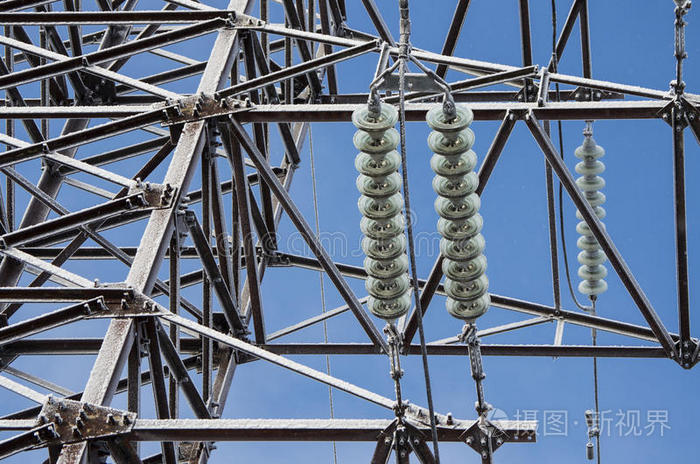insulator: (426, 103, 494, 318), (351, 102, 409, 315), (575, 139, 610, 297)
